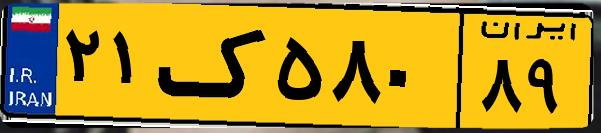0: (385, 28, 445, 110)
1: (110, 28, 158, 98)
2: (57, 26, 110, 100)
5: (270, 28, 330, 110)
8: (330, 28, 385, 110), (475, 38, 525, 113)
9: (525, 38, 570, 115)
ک: (158, 12, 270, 120)
